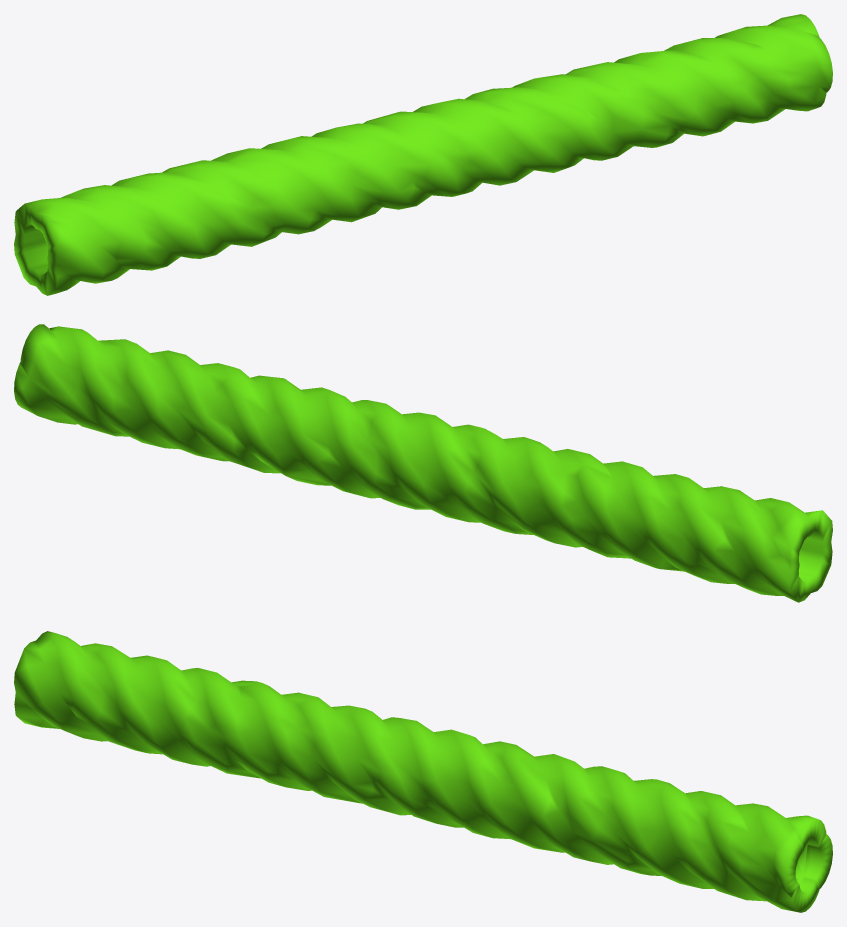
Rendered from Licorish.fbx.
3 views of the same model, one above another, from view 1: azimuth 30°, elevation 25°; view 2: azimuth 150°, elevation 25°; view 3: azimuth 330°, elevation 25° (orthographic).
Parts seen in each view (by area): view 1: Circle; view 2: Circle; view 3: Circle.
Part boxes in pixels (x1,y1,x2,y2): Circle: (14, 14, 832, 295); Circle: (14, 324, 832, 602); Circle: (14, 631, 832, 912).
Bounding box in the file's own units: 286 × 31.25 × 31.35.
